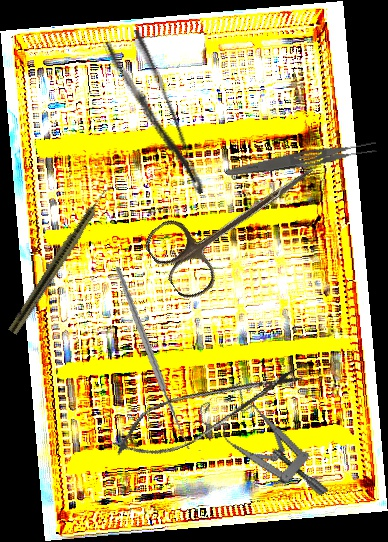Dressing Forceps: (102, 27, 208, 207), (225, 137, 379, 184)
Handpiece: (7, 181, 115, 337)
Hook Surgical: (86, 265, 228, 452)
Iris Scissors: (139, 133, 334, 306)
Micro Scissor: (101, 347, 313, 474)
Speculum: (192, 367, 330, 529)
